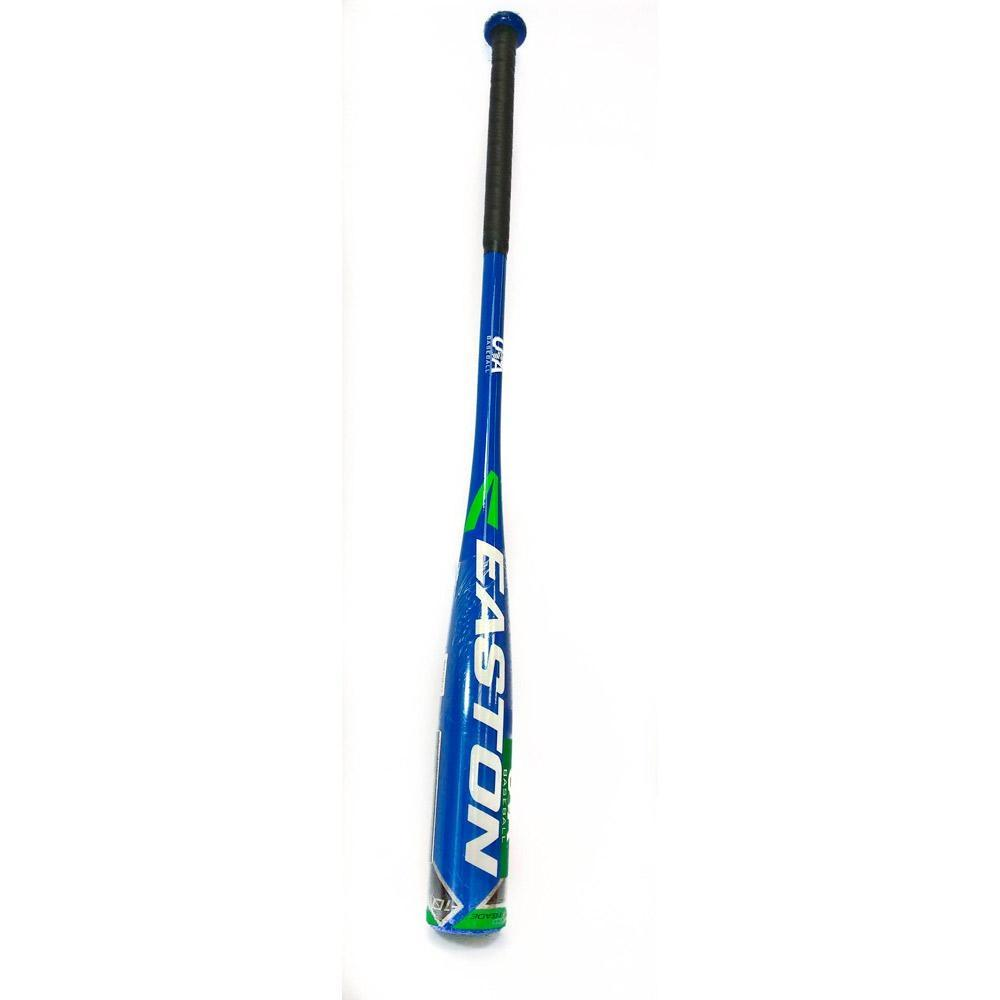Baseball-Bat: (310, 13, 680, 966)
